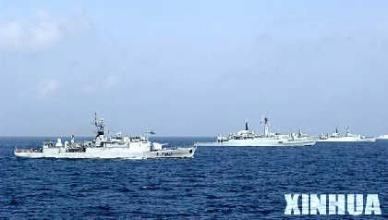warship: (12, 114, 205, 160), (194, 111, 313, 151), (315, 118, 379, 144)
